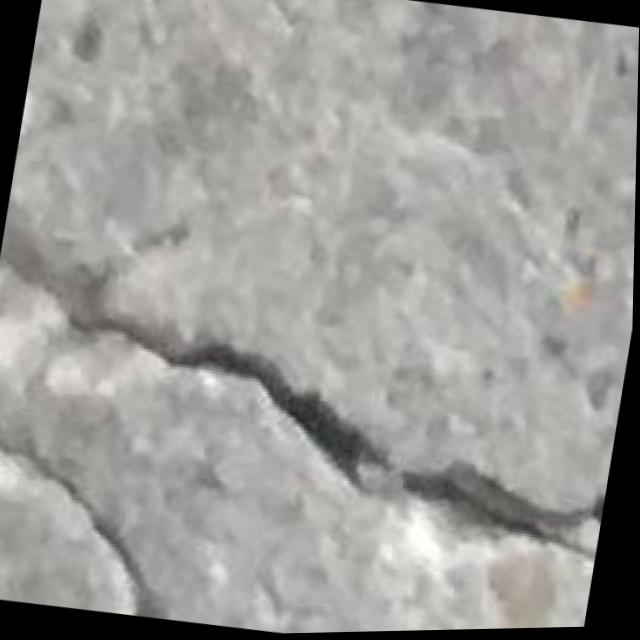Crack: (0, 216, 636, 586)
